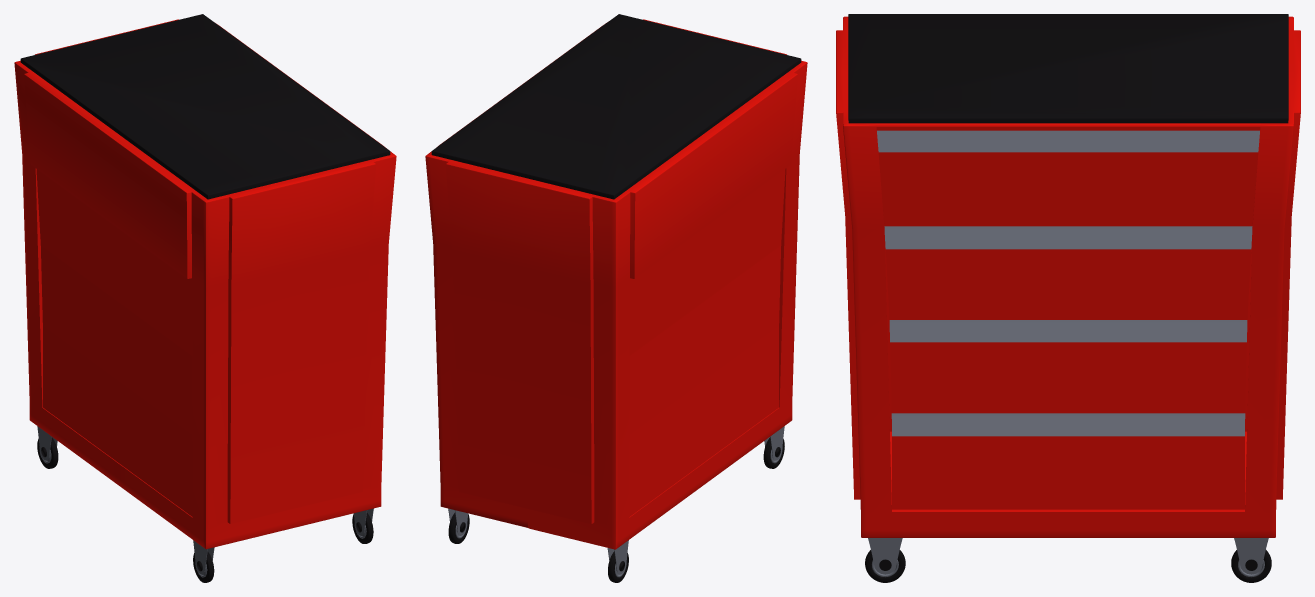
The model's file is CarritoAlto.fbx.
The picture shows the model from 3 angles, left to right: view 1: azimuth 30°, elevation 25°; view 2: azimuth 150°, elevation 25°; view 3: azimuth 270°, elevation 25°; orthographic projection. The views are drawn at different scales.
Visible parts, largest first — view 1: BaseCarrito, Cajon.003, Cajon.002, Cajon.001, RuedasCarrito; view 2: BaseCarrito, Cajon.003, Cajon.002, Cajon.001, RuedasCarrito; view 3: BaseCarrito, Cajon, Cajon.003, Cajon.001, Cajon.002, RuedasCarrito.
Part boxes in pixels (x1,y1,x2,y2): BaseCarrito: (14,14,396,549); Cajon.003: (43,326,192,516); Cajon.002: (40,245,192,434); Cajon.001: (36,169,192,355); RuedasCarrito: (37,426,373,582); BaseCarrito: (425,14,807,549); Cajon.003: (629,326,778,516); Cajon.002: (629,245,781,434); Cajon.001: (629,169,785,355); RuedasCarrito: (448,426,784,582); BaseCarrito: (836,14,1300,537); Cajon: (877,130,1259,226); Cajon.003: (891,413,1245,509); Cajon.001: (884,226,1252,319); Cajon.002: (889,320,1247,413); RuedasCarrito: (865,538,1271,582).
Bounding box in the file's own units: 239 × 448 × 401.
